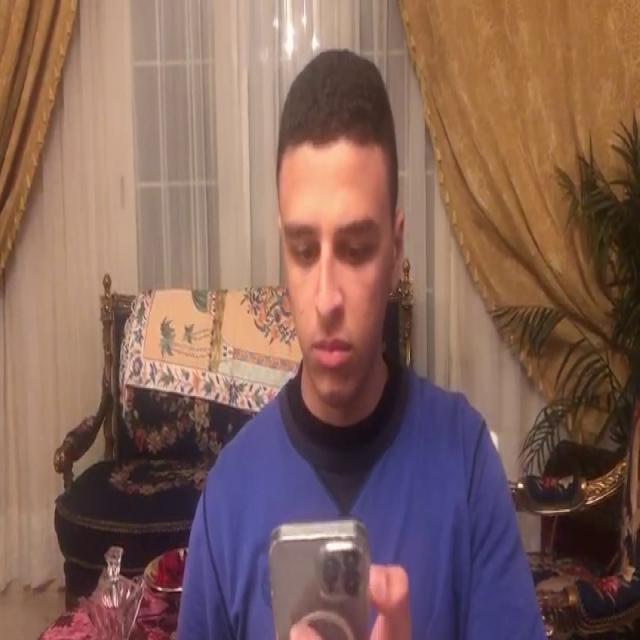phone: (269, 516, 375, 636)
